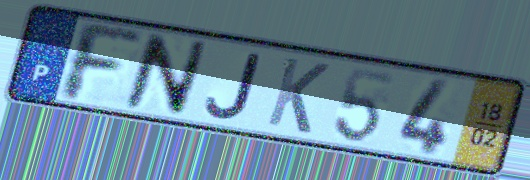4: (395, 75, 455, 159)
5: (331, 64, 399, 145)
F: (59, 17, 145, 105)
J: (203, 51, 263, 121)
K: (263, 54, 333, 138)
N: (120, 30, 212, 119)
